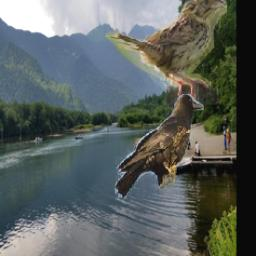Crow: (115, 91, 204, 202)
Sparrow: (106, 0, 228, 105)
